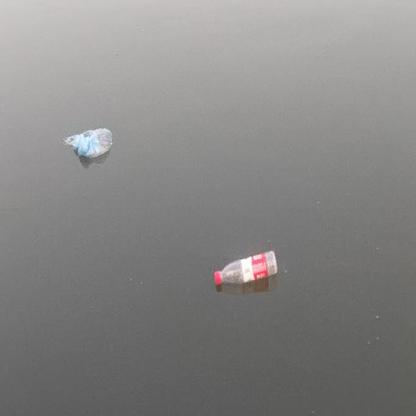plastic bag: (64, 129, 114, 158)
plastic bottle: (213, 251, 278, 281)
